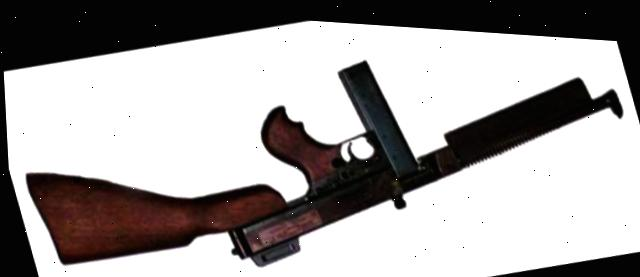rifle: (2, 0, 640, 277)
